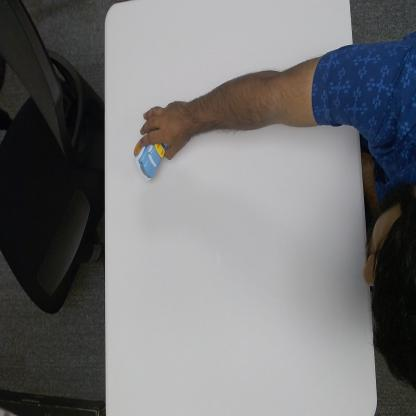Arm: (191, 54, 356, 142)
Car: (133, 137, 168, 182)
Hand: (137, 100, 190, 163)
